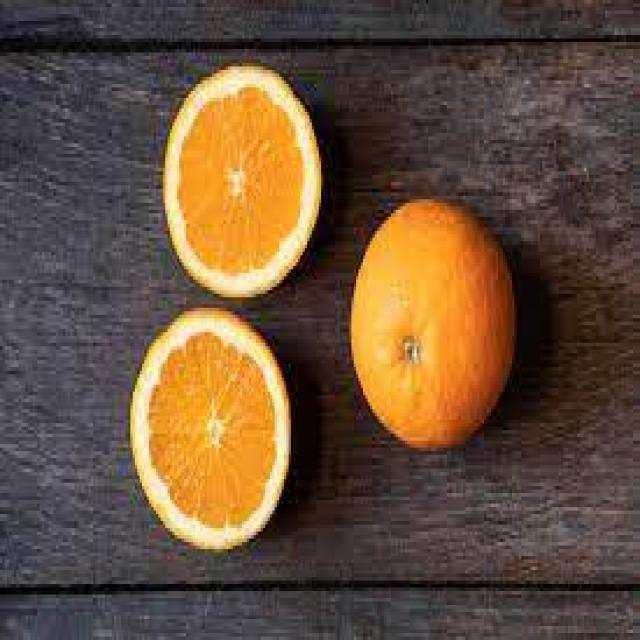orange: (343, 190, 537, 453)
